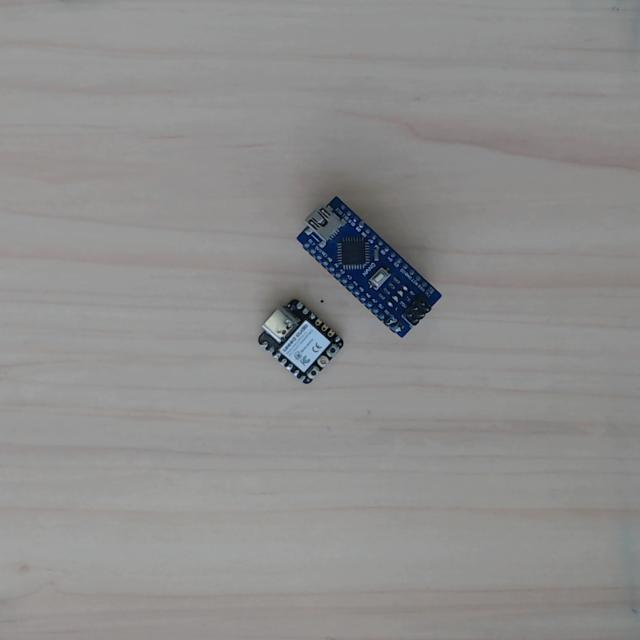Arduino-Nano: (289, 192, 444, 341)
ESP32C3-Xiao: (250, 293, 347, 388)
